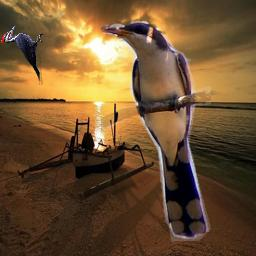Cuckoo: (101, 21, 211, 242)
Woodpecker: (1, 25, 44, 85)
